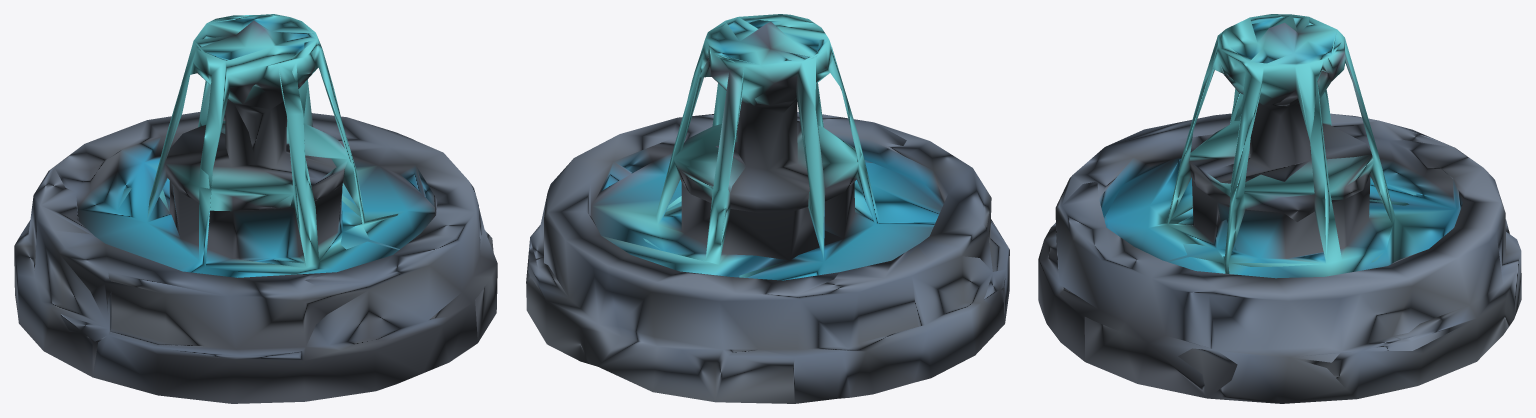
File: gen3d-fountain-lod1.glb
3 renders of one model, left to right at view 1: azimuth 30°, elevation 25°; view 2: azimuth 150°, elevation 25°; view 3: azimuth 270°, elevation 25°, orthographic.
Parts seen in each view (by area): view 1: part_0; view 2: part_0; view 3: part_0.
Boxes of the visible parts, x1,y1,x2,y2 form: part_0: [14, 14, 497, 403]; part_0: [526, 14, 1009, 403]; part_0: [1038, 14, 1521, 403].
Bounding box in the file's own units: 1.56 × 0.9957 × 1.56.
